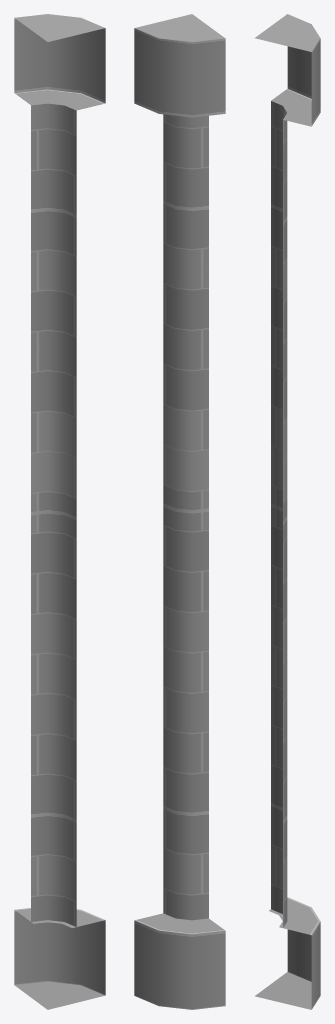
The model's file is proto_corner_01.fbx.
3 renders of one model, left to right at view 1: azimuth 30°, elevation 25°; view 2: azimuth 210°, elevation 25°; view 3: azimuth 330°, elevation 25°, orthographic.
Parts seen in each view (by area): view 1: proto_corner_01; view 2: proto_corner_01; view 3: proto_corner_01.
Boxes of the visible parts, x1=… form: proto_corner_01: x1=14, y1=14, x2=105, y2=1009; proto_corner_01: x1=134, y1=14, x2=225, y2=1009; proto_corner_01: x1=254, y1=14, x2=320, y2=1009.
Bounding box in the file's own units: 20 × 320 × 20.
